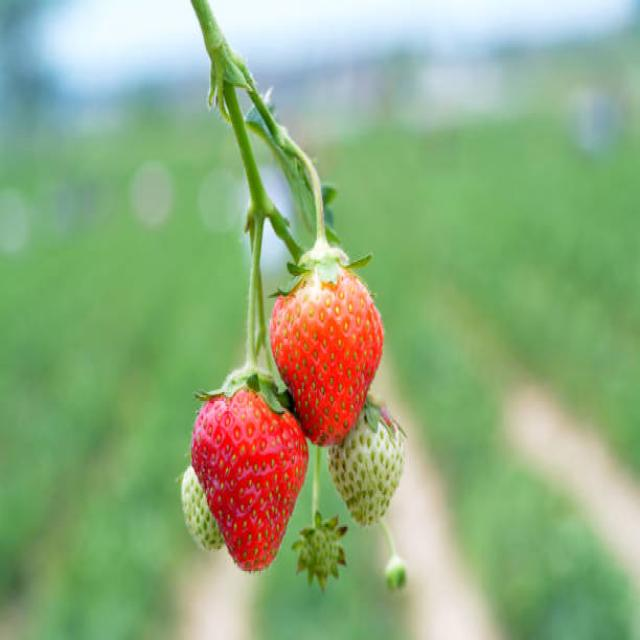Healthy Fruit: (268, 257, 385, 442), (190, 387, 307, 571), (328, 409, 404, 525)
